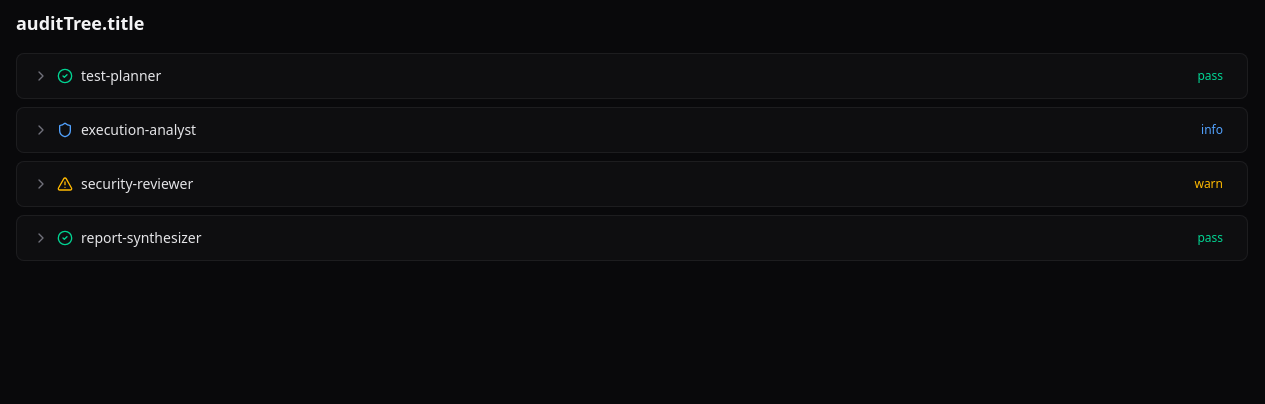
Test: AuditTreeView › can expand multiple nodes independently
Click the text "test-planner": (121, 76) [81,66,161,86]
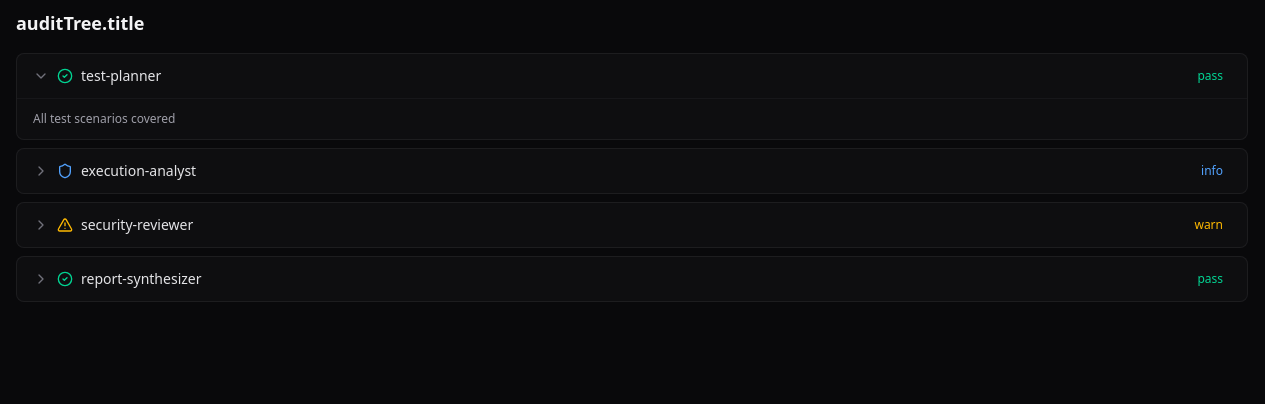
Click the text "security-reviewer": (137, 225) [81,215,193,235]
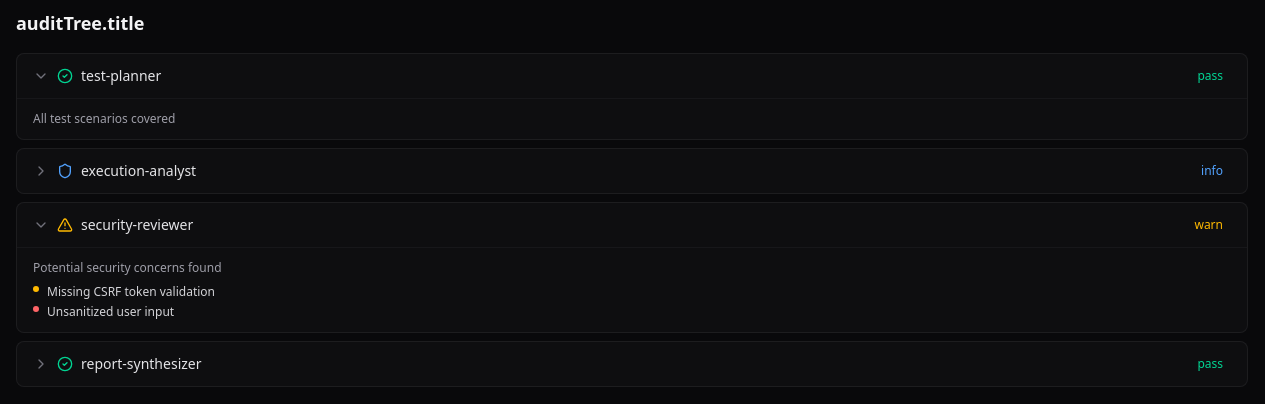
Now the text "All test scenarios covered" is shown, box [33,110,175,127]
Now the text "Potential security concerns found" is shown, box [33,259,222,276]
